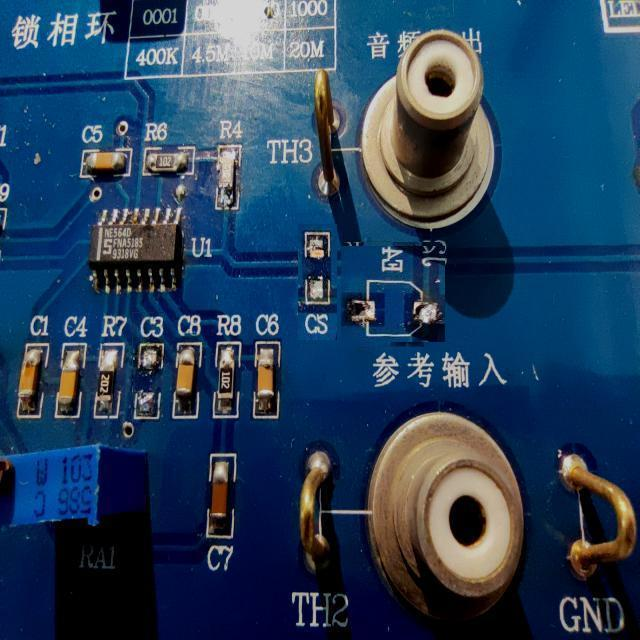miss_welding: (342, 244, 443, 345), (298, 224, 337, 340), (132, 312, 164, 423)
